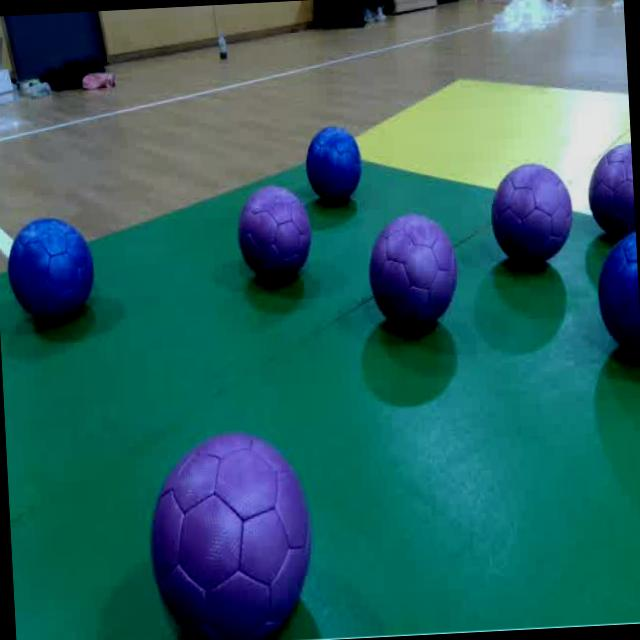blue_ball: (138, 423, 320, 640), (9, 218, 98, 328), (589, 230, 640, 360), (304, 122, 368, 205)
purple_ball: (361, 210, 462, 344), (489, 158, 577, 273), (232, 183, 322, 289), (585, 140, 636, 236)
